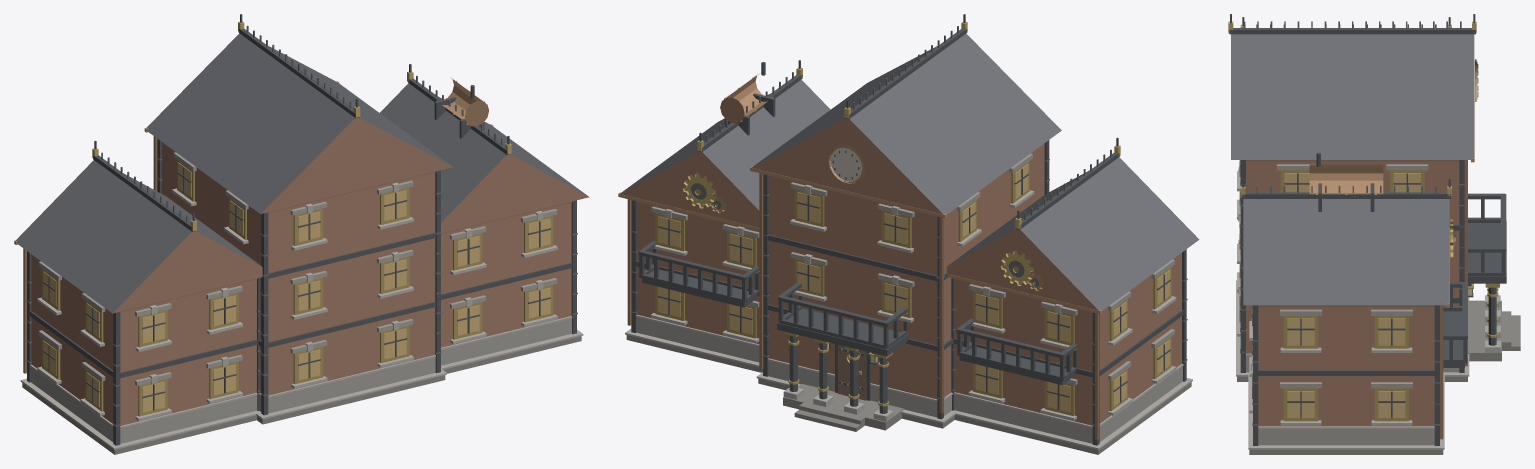
The model's file is casa-n09-37886472.glb.
3 renders of one model, left to right at view 1: azimuth 30°, elevation 25°; view 2: azimuth 150°, elevation 25°; view 3: azimuth 270°, elevation 25°, orthographic. The views are drawn at different scales.
Parts seen in each view (by area): view 1: casa_n09, casa_n09_glow; view 2: casa_n09, casa_n09_glow; view 3: casa_n09, casa_n09_glow.
Boxes of the visible parts, x1,y1,x2,y2 form: casa_n09: (14,14,589,454); casa_n09_glow: (43,162,550,412); casa_n09: (618,14,1199,454); casa_n09_glow: (658,164,1170,412); casa_n09: (1228,14,1520,454); casa_n09_glow: (1240,160,1472,417).
Size of the model in its own units: 18.8 by 11.49 by 9.48.
